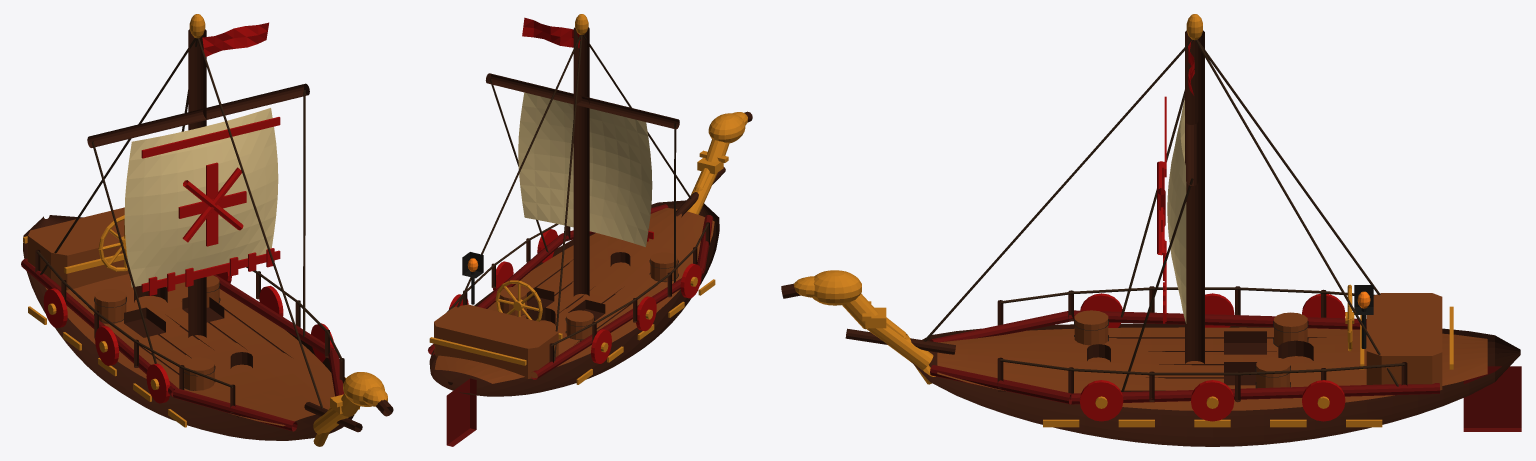
Rendered from SmallSlavicShip.obj.
3 renders of one model, left to right at view 1: azimuth 30°, elevation 25°; view 2: azimuth 150°, elevation 25°; view 3: azimuth 270°, elevation 25°, orthographic. The views are drawn at different scales.
Visible parts, largest first — view 1: Sail, Deck, Hull, Cabin, Gunwales, Rigging, SailBorders, Shields, Yard, SailEmblem, Mast, Cargo (+11 smaller); view 2: Sail, Deck, Cabin, Hull, Mast, Gunwales, Rigging, Shields, Yard, Cargo, Rudder, DeckDetails (+10 smaller); view 3: Deck, Hull, Gunwales, Cabin, Shields, Mast, Rigging, Rudder, Cargo, Sail, DeckDetails, RailRopes (+8 smaller).
Boxes of the visible parts, bbox=[...] form: Sail: bbox=[124, 108, 278, 287]; Deck: bbox=[45, 274, 334, 426]; Hull: bbox=[23, 215, 354, 440]; Cabin: bbox=[27, 207, 128, 290]; Gunwales: bbox=[21, 258, 344, 431]; Rigging: bbox=[40, 38, 323, 408]; SailBorders: bbox=[141, 117, 280, 295]; Shields: bbox=[43, 271, 334, 403]; Yard: bbox=[87, 83, 309, 147]; SailEmblem: bbox=[178, 162, 246, 246]; Mast: bbox=[188, 29, 206, 337]; Cargo: bbox=[94, 275, 219, 390]; Sail: bbox=[518, 92, 652, 246]; Deck: bbox=[434, 208, 714, 383]; Cabin: bbox=[434, 304, 558, 378]; Hull: bbox=[429, 200, 719, 396]; Mast: bbox=[573, 27, 589, 296]; Gunwales: bbox=[428, 204, 713, 379]; Rigging: bbox=[457, 35, 691, 361]; Shields: bbox=[449, 229, 701, 363]; Yard: bbox=[485, 73, 679, 129]; Cargo: bbox=[499, 252, 677, 340]; Rudder: bbox=[446, 378, 476, 446]; DeckDetails: bbox=[526, 252, 630, 325]; Deck: bbox=[937, 327, 1487, 410]; Hull: bbox=[910, 323, 1520, 446]; Gunwales: bbox=[930, 310, 1440, 404]; Cabin: bbox=[1366, 293, 1442, 390]; Shields: bbox=[1079, 293, 1345, 421]; Mast: bbox=[1185, 30, 1204, 363]; Rigging: bbox=[924, 39, 1398, 391]; Rudder: bbox=[1463, 366, 1521, 431]; Cargo: bbox=[1074, 310, 1307, 388]; Sail: bbox=[1167, 99, 1186, 323]; DeckDetails: bbox=[1087, 331, 1313, 385]; RailRopes: bbox=[1000, 287, 1404, 375].
Size of the model in its own units: 5.35 by 9.09 by 14.67.
